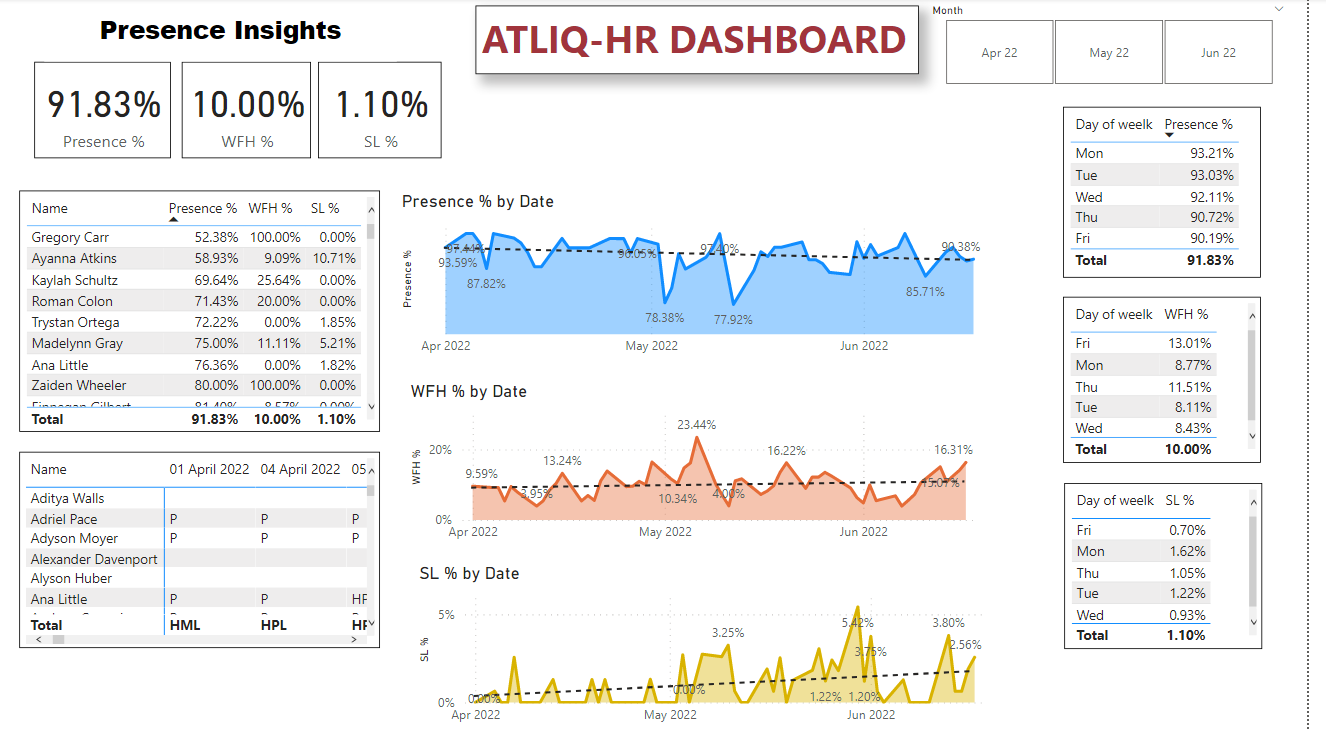

The dashboard page shown, as its layout file describes it:
{"tool":"powerbi","page":{"name":"Presence Overview","canvas":[1280,720],"ordinal":0},"visuals":[{"type":"card","fields":{"Values":["Measure Table.Presence %"]},"box":[35.7,61.8,133.2,94.8],"z":0},{"type":"slicer","fields":{"Values":["Final Data.Month"]},"box":[900.9,0,369.4,90.6],"z":1000},{"type":"card","fields":{"Values":["Measure Table.WFH %"]},"box":[179.9,61.8,126.4,94.8],"z":2000},{"type":"card","fields":{"Values":["Measure Table.SL %"]},"box":[313.1,61.8,120.9,94.8],"z":3000},{"type":"tableEx","fields":{"Values":["Final Data.Name","Measure Table.Presence %","Measure Table.WFH %","Measure Table.SL %"]},"box":[20.6,188.2,353,236.2],"z":4000},{"type":"textbox","box":[45.3,8.2,344.7,53.6],"z":5000},{"type":"pivotTable","fields":{"Rows":["Final Data.Name"],"Values":["Final Data.Value"],"Columns":["Final Data.Date"]},"box":[20.6,443.6,353,192.3],"z":6000},{"type":"areaChart","fields":{"Y":["Measure Table.Presence %"],"Category":["Final Data.Date"]},"box":[397.3,169.9,592.9,169.9],"z":7000},{"type":"areaChart","fields":{"Category":["Final Data.Date"],"Y":["Measure Table.WFH %"]},"box":[398.5,360.6,592.9,167.5],"z":8000},{"type":"areaChart","fields":{"Category":["Final Data.Date"],"Y":["Measure Table.SL %"]},"box":[397.3,551.3,592.9,167.5],"z":9000},{"type":"tableEx","fields":{"Values":["Final Data.Day of weelk","Measure Table.Presence %"]},"box":[1041,105.8,193.6,167.6],"z":10000},{"type":"tableEx","fields":{"Values":["Final Data.Day of weelk","Measure Table.WFH %"]},"box":[1041,292.5,193.6,162.1],"z":12000},{"type":"tableEx","fields":{"Values":["Final Data.Day of weelk","Measure Table.SL %"]},"box":[1042.4,473.8,193.6,162.1],"z":12001},{"type":"textbox","box":[467,6.9,434,67.3],"z":12002}]}

Visuals, with their boxes in screenshot pixels (x1, y1, x2, y2), scaled from the page's 1280x720 canvas onto the 1326x731 screenshot:
card - Measure Table.Presence %: {"x1": 37, "y1": 63, "x2": 175, "y2": 159}
slicer - Final Data.Month: {"x1": 933, "y1": 0, "x2": 1316, "y2": 92}
card - Measure Table.WFH %: {"x1": 186, "y1": 63, "x2": 317, "y2": 159}
card - Measure Table.SL %: {"x1": 324, "y1": 63, "x2": 450, "y2": 159}
tableEx - Final Data.Name x Measure Table.Presence %: {"x1": 21, "y1": 191, "x2": 387, "y2": 431}
textbox: {"x1": 47, "y1": 8, "x2": 404, "y2": 63}
pivotTable - Final Data.Name x Final Data.Value: {"x1": 21, "y1": 450, "x2": 387, "y2": 646}
areaChart - Measure Table.Presence % x Final Data.Date: {"x1": 412, "y1": 172, "x2": 1026, "y2": 345}
areaChart - Final Data.Date x Measure Table.WFH %: {"x1": 413, "y1": 366, "x2": 1027, "y2": 536}
areaChart - Final Data.Date x Measure Table.SL %: {"x1": 412, "y1": 560, "x2": 1026, "y2": 730}
tableEx - Final Data.Day of weelk x Measure Table.Presence %: {"x1": 1078, "y1": 107, "x2": 1279, "y2": 278}
tableEx - Final Data.Day of weelk x Measure Table.WFH %: {"x1": 1078, "y1": 297, "x2": 1279, "y2": 462}
tableEx - Final Data.Day of weelk x Measure Table.SL %: {"x1": 1080, "y1": 481, "x2": 1280, "y2": 646}
textbox: {"x1": 484, "y1": 7, "x2": 933, "y2": 75}
